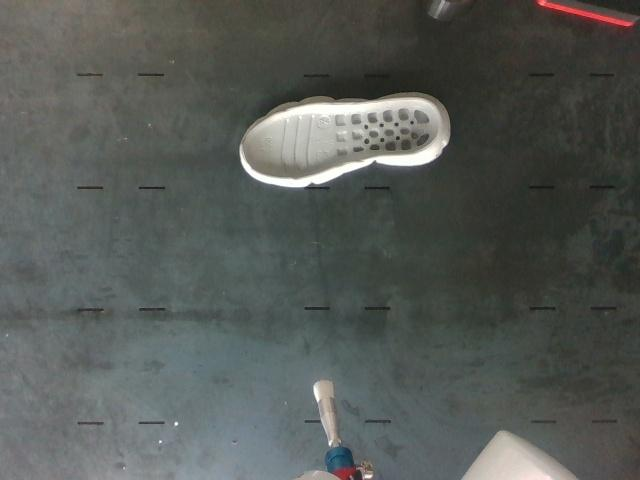shoes: (243, 98, 439, 179)
